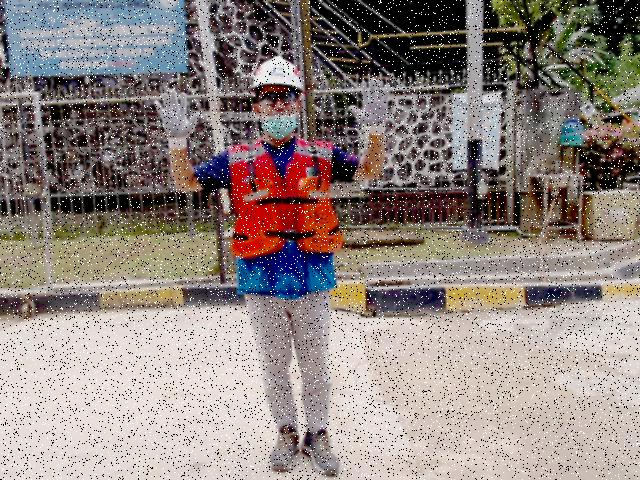glasses: (259, 92, 297, 104)
gloves: (154, 88, 202, 151), (347, 76, 391, 136)
helmet: (250, 55, 304, 91)
mask: (260, 114, 297, 140)
safety-shoes: (300, 428, 340, 477), (268, 425, 301, 472)
vest: (230, 175, 343, 259)
